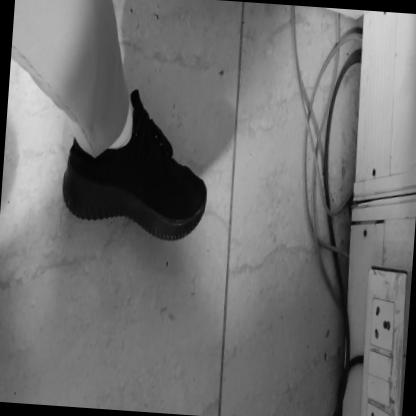ankle: (111, 153, 114, 157)
heel: (70, 165, 72, 170)
left_foot: (60, 92, 214, 245)
pinky: (189, 173, 191, 177)
toe: (191, 211, 195, 216)
